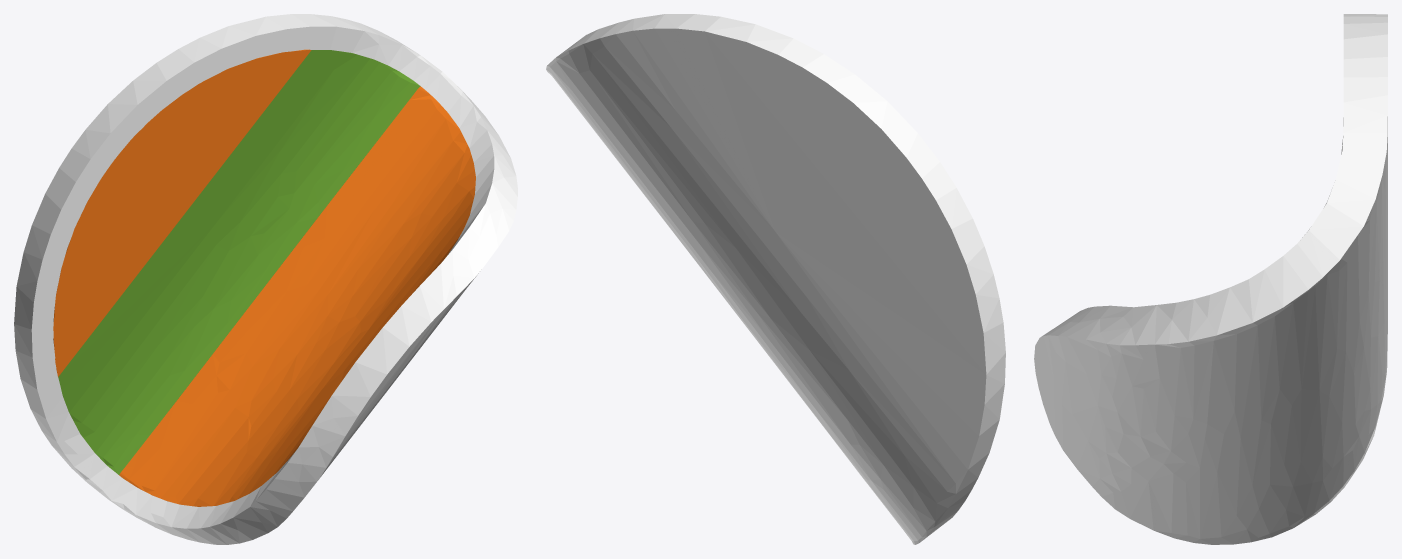
File: topping_ramen_cap.glb
The picture shows the model from 3 angles, left to right: view 1: azimuth 30°, elevation 25°; view 2: azimuth 150°, elevation 25°; view 3: azimuth 270°, elevation 25°; orthographic projection. The views are drawn at different scales.
Visible parts, largest first — view 1: Circle.568; view 2: Circle.568; view 3: Circle.568.
Boxes of the visible parts, <box> form: Circle.568: <box>14,14,517,544</box>; Circle.568: <box>546,14,1005,544</box>; Circle.568: <box>1034,14,1387,544</box>.
Bounding box in the file's own units: 14.14 × 14.13 × 7.99.
